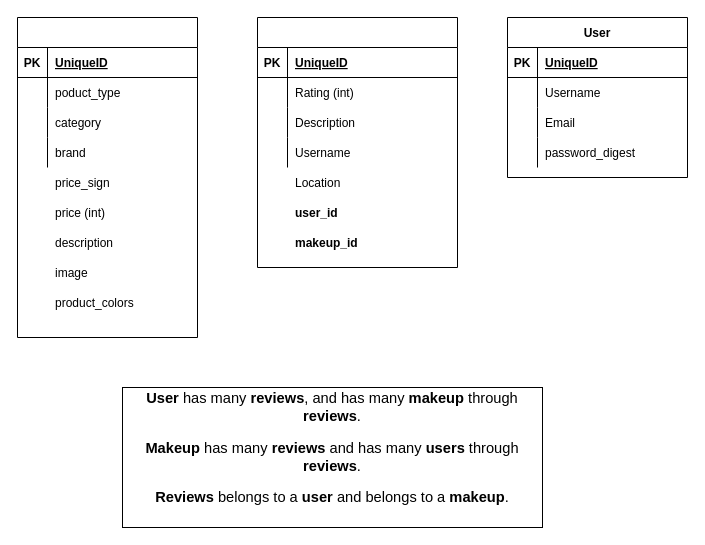
Image size: 705x545. Some labels were removed from this diagram. Here are the shapes that lost their labels. From the top down, the box of each, then its label:
(256, 16, 458, 268): Reviews
(16, 16, 198, 338): Makeup
